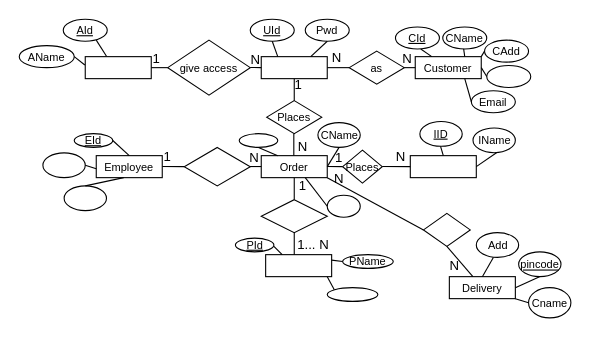
The diagram is 591 pixels wide and 338 high, and some of its shapes have lost their labels. The shapes that lost their labels are listed below. From the top down, each one's centre as x and y in pixels, then its label:
pixel 117 67: Admin
pixel 293 67: User
pixel 508 75: PhNo
pixel 258 140: OId
pixel 63 165: EName
pixel 216 166: Prepares
pixel 442 166: Inventory
pixel 84 198: EPhNo
pixel 293 216: Contains
pixel 343 205: Date
pixel 446 229: deliver
pixel 298 265: Product
pixel 352 294: Price
